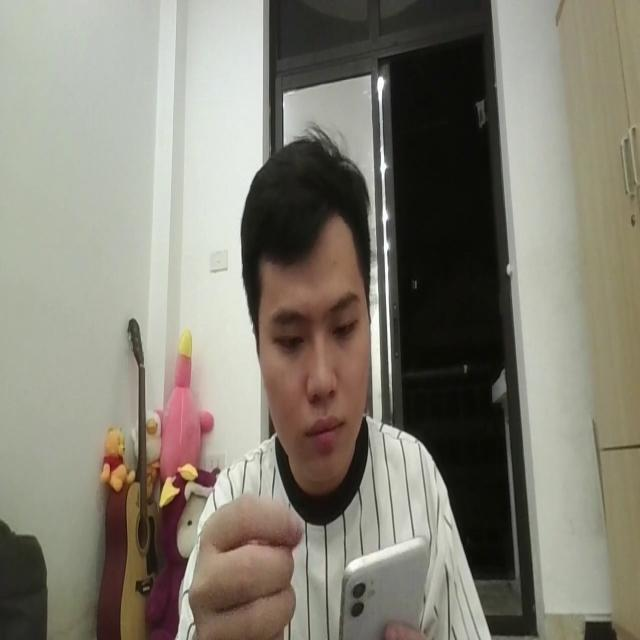phone: (338, 532, 434, 640)
student: (166, 126, 492, 640)
